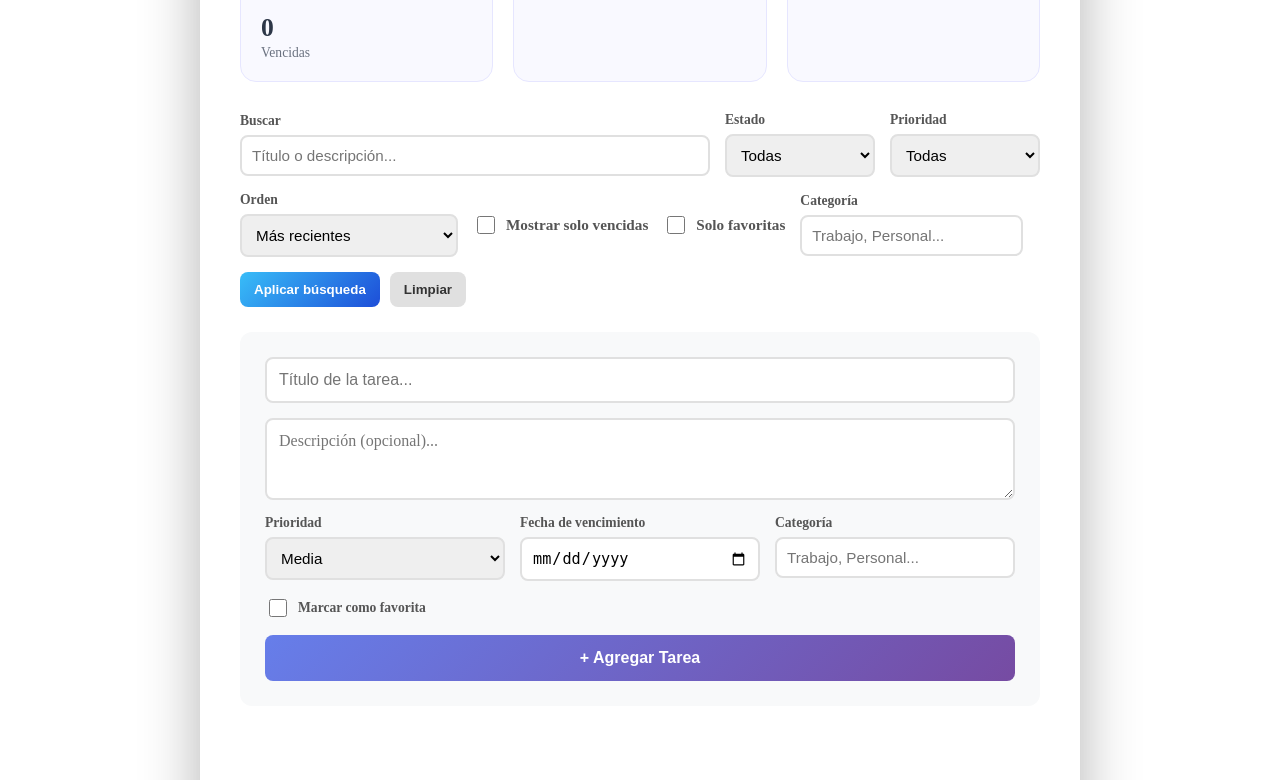
Test: App - Gestión de Tareas › permite crear una tarea y refresca la lista
The image size is (1280, 780).
(page scrolled)
Step 1. Type "Nueva tarea" into the field with placeholder "Título de la tarea..." → (640, 380), box [265,357,1015,403]
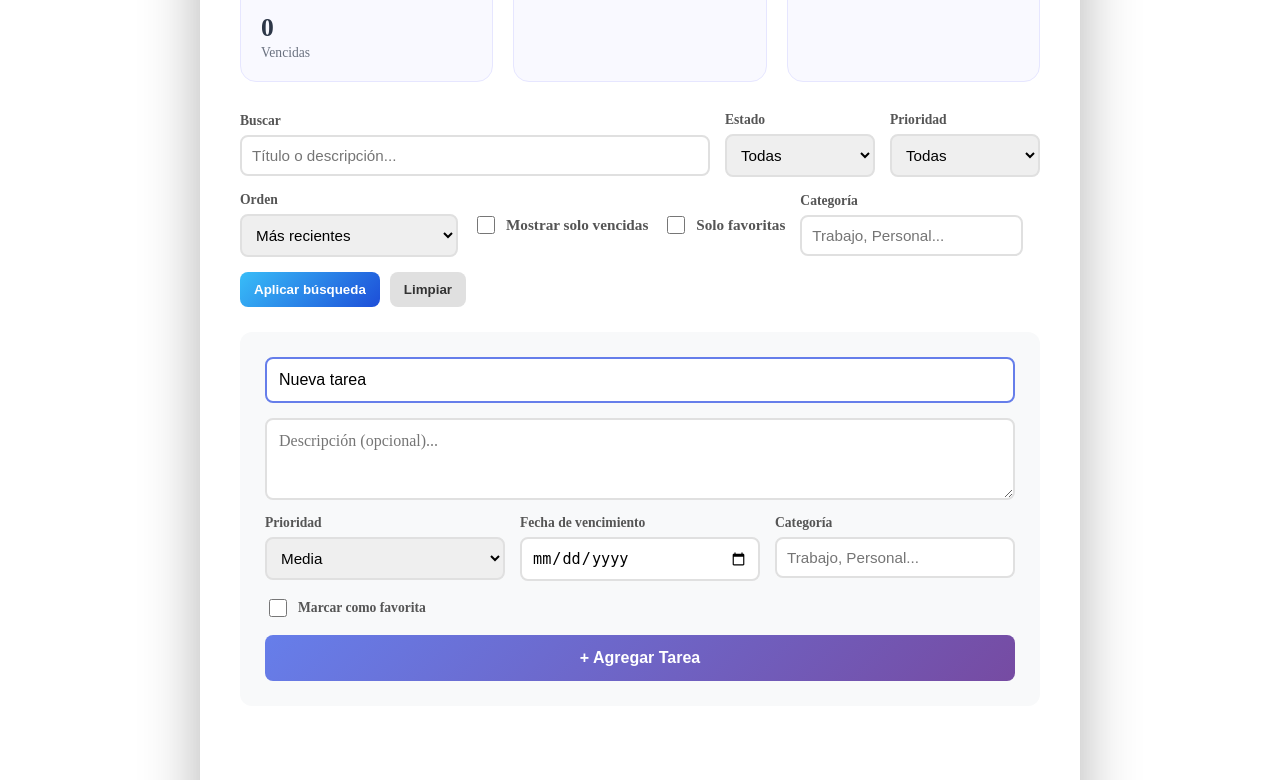
Step 2. Type "Algo" into the text box with placeholder "Descripción (opcional)..." → (640, 459), box [265,418,1015,500]
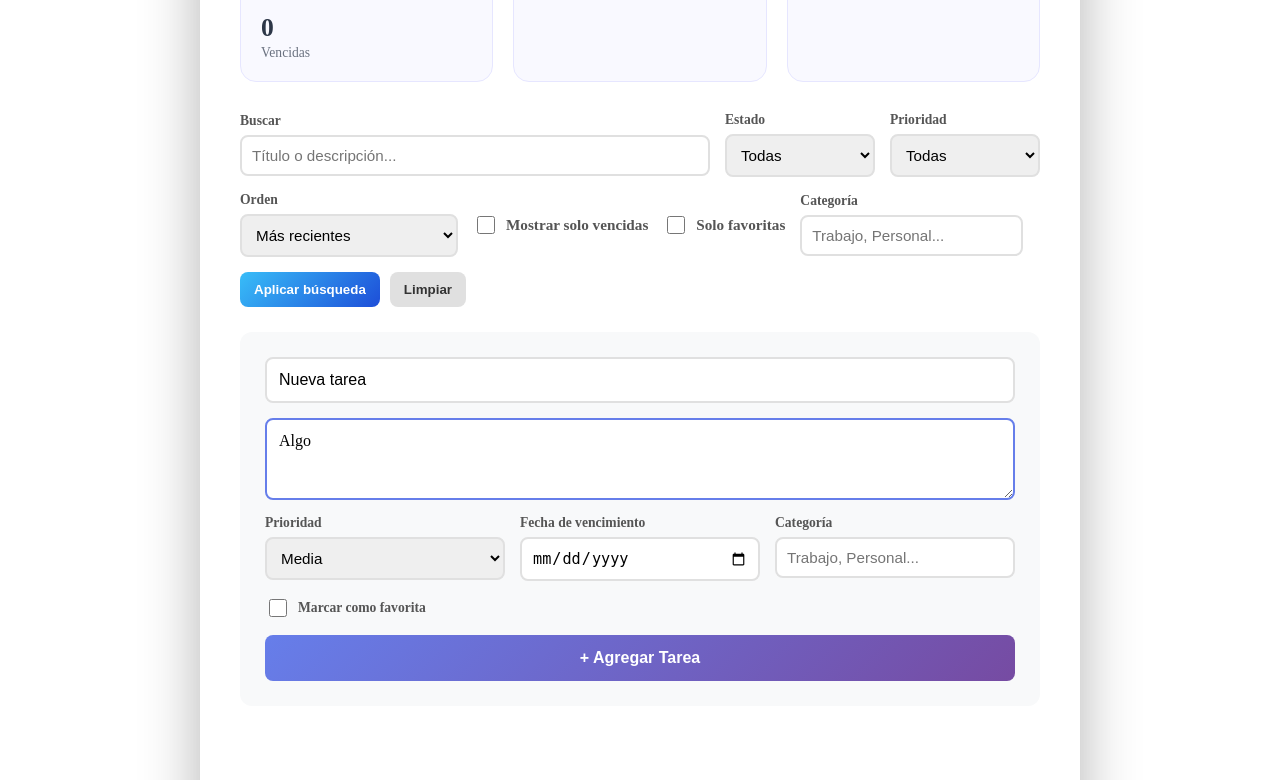
Step 3. Select "Media" in the dropdown labelled "Prioridad" below "Fecha de vencimiento" → (385, 559), box [265,537,505,580]
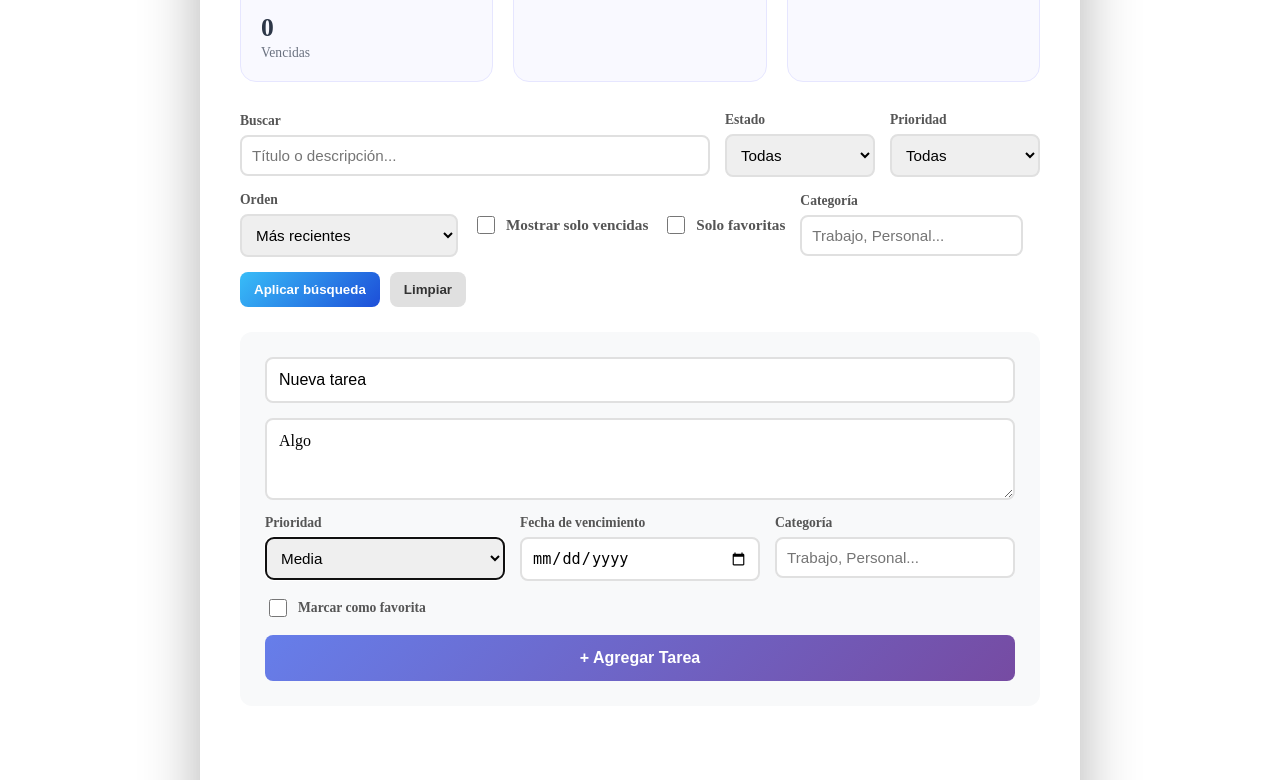
Step 4. Click the button "+ Agregar Tarea" → (640, 658), box [265,635,1015,681]
(page scrolled)
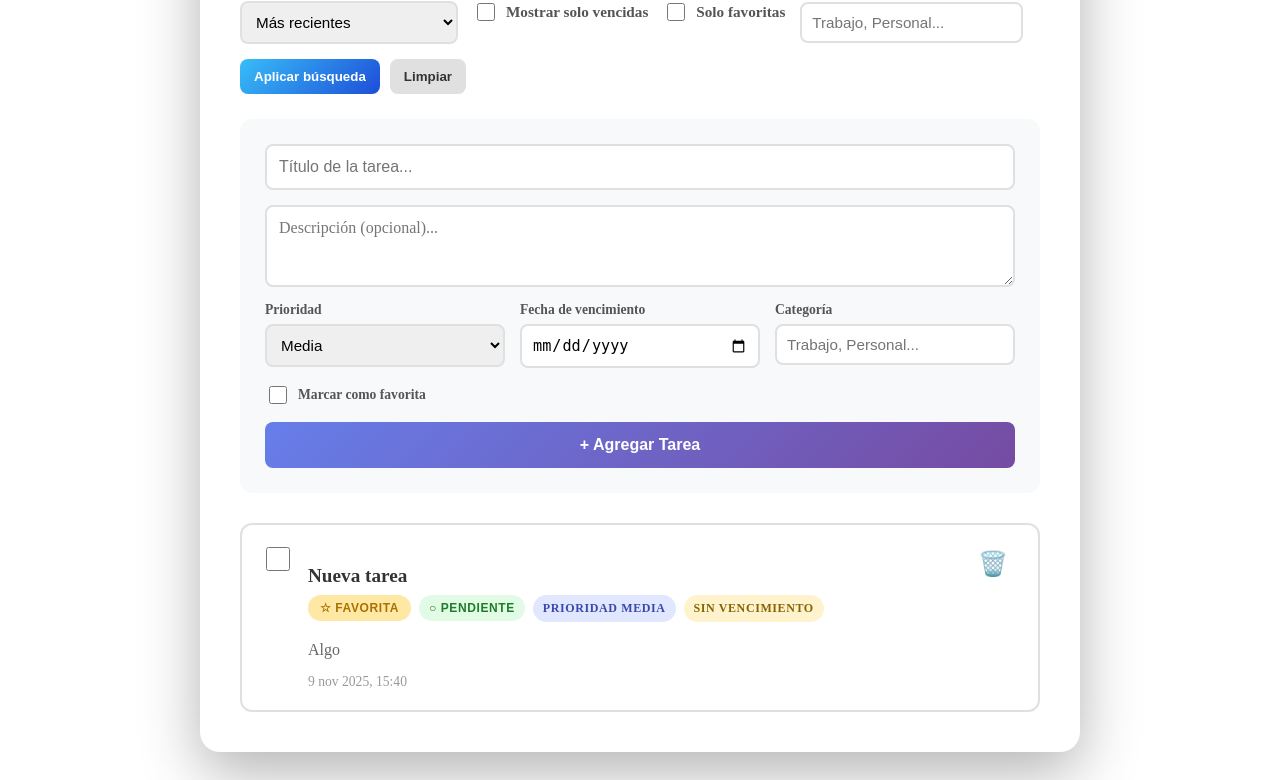
Expected: the heading "Nueva tarea" is shown, [308,565,407,586]
